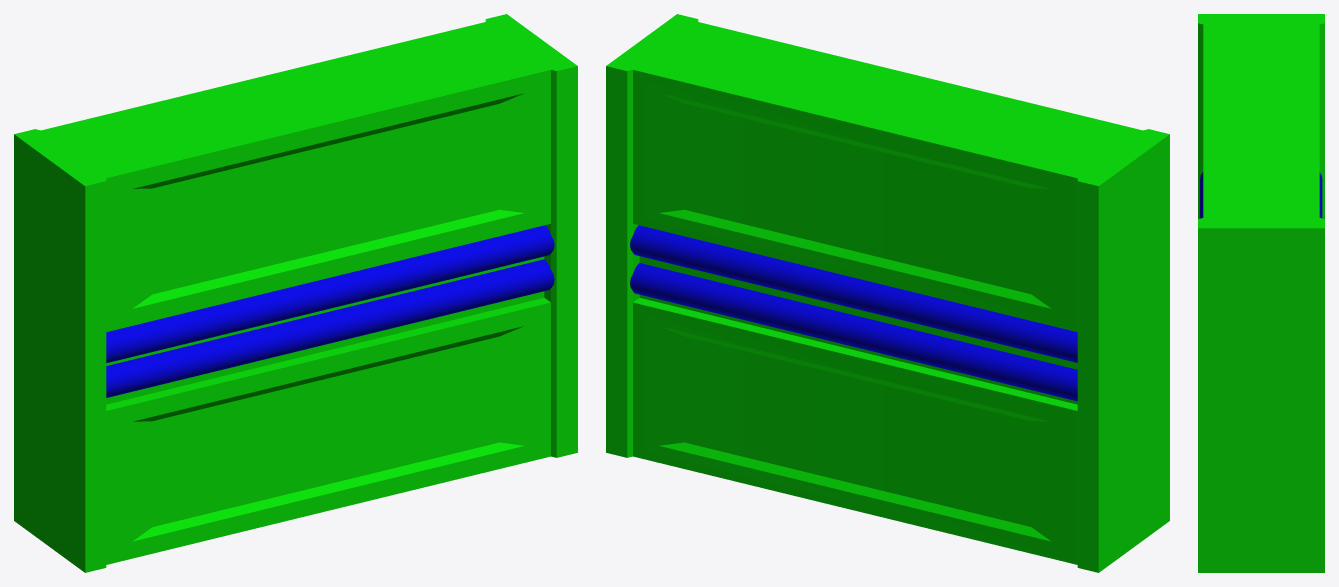
File: SM_Wall2.fbx
3 renders of one model, left to right at view 1: azimuth 30°, elevation 25°; view 2: azimuth 150°, elevation 25°; view 3: azimuth 270°, elevation 25°, orthographic. The views are drawn at different scales.
Parts seen in each view (by area): view 1: polySurface5; view 2: polySurface5; view 3: polySurface5.
Part boxes in pixels (x1,y1,x2,y2): polySurface5: [14, 14, 577, 572]; polySurface5: [606, 14, 1169, 572]; polySurface5: [1198, 14, 1324, 572].
Size of the model in its own units: 4 by 3 by 1.
